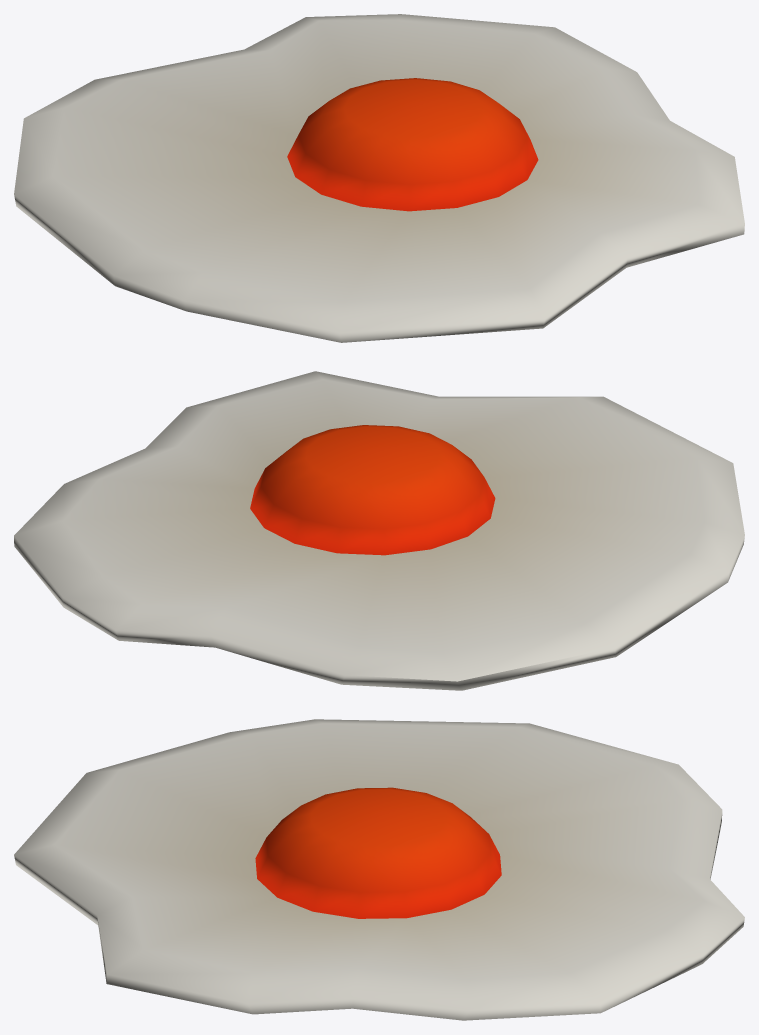
Rendered from FriedEgg_Medium2.fbx.
3 renders of one model, top to bottom at view 1: azimuth 30°, elevation 25°; view 2: azimuth 150°, elevation 25°; view 3: azimuth 270°, elevation 25°, orthographic.
Parts seen in each view (by area): view 1: FriedEgg_Medium2; view 2: FriedEgg_Medium2; view 3: FriedEgg_Medium2.
Boxes of the visible parts, x1=… form: FriedEgg_Medium2: x1=14, y1=14, x2=744, y2=342; FriedEgg_Medium2: x1=14, y1=371, x2=744, y2=690; FriedEgg_Medium2: x1=14, y1=719, x2=744, y2=1020.
Bounding box in the file's own units: 41.77 × 5.36 × 44.36.
